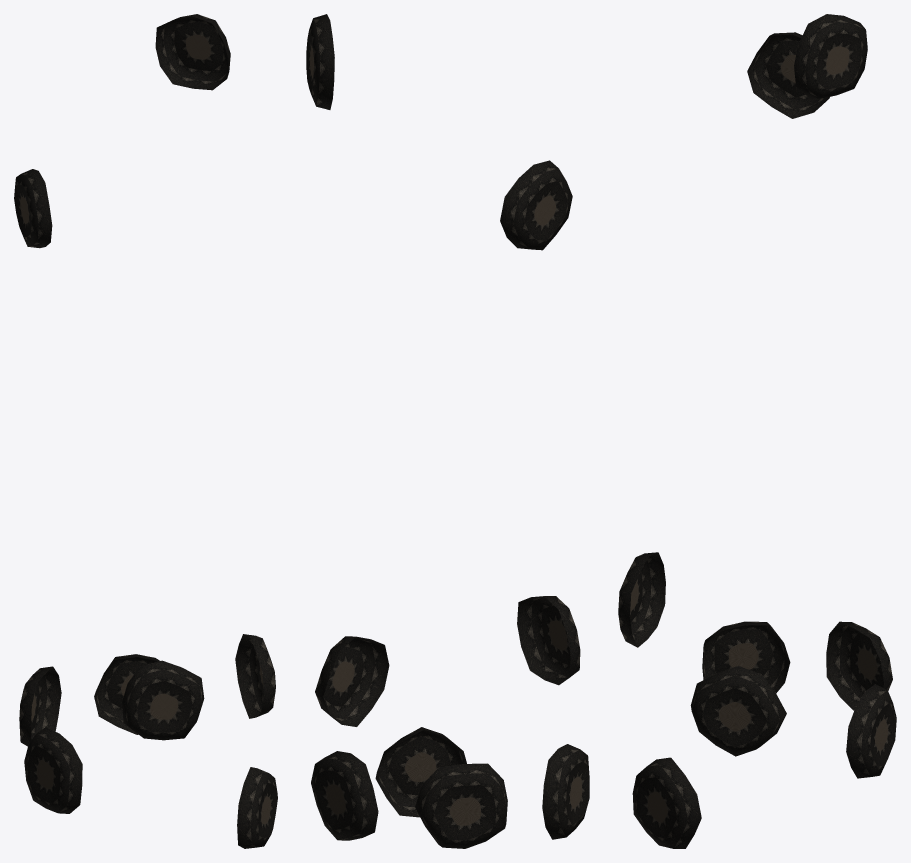
The model's file is Sitka_Mature_03_LowPruned_Healed_LOD1.fbx.
3 views of the same model, side by side, from view 1: azimuth 30°, elevation 25°; view 2: azimuth 150°, elevation 25°; view 3: azimuth 270°, elevation 25° (orthographic). The views are drawn at different scales.
Parts seen in each view (by area): view 1: Sitka_Mature_03_LowPruned_Healed_LOD1_Scars; view 2: Sitka_Mature_03_LowPruned_Healed_LOD1_Scars; view 3: Sitka_Mature_03_LowPruned_Healed_LOD1_Scars.
Part boxes in pixels (x1,y1,x2,y2): Sitka_Mature_03_LowPruned_Healed_LOD1_Scars: (14, 14, 277, 848); Sitka_Mature_03_LowPruned_Healed_LOD1_Scars: (306, 14, 589, 848); Sitka_Mature_03_LowPruned_Healed_LOD1_Scars: (618, 14, 896, 848).
Size of what is drawn, in the model's own units: 42.64 by 139 by 41.93.
2 materials, 2 textured.
